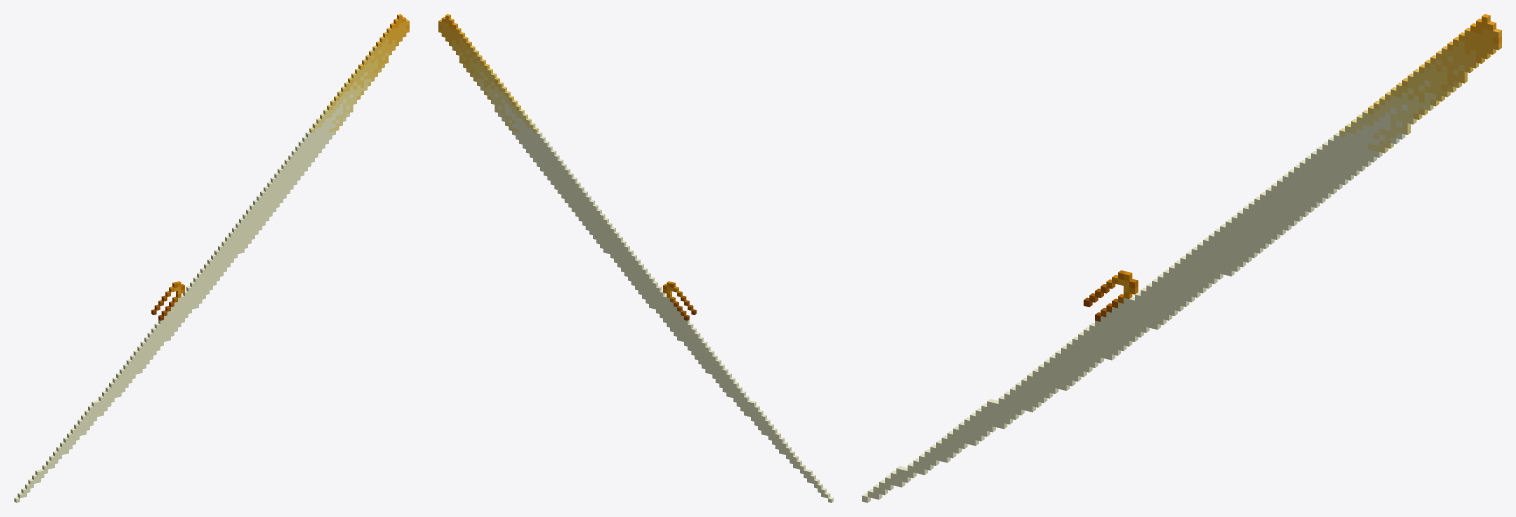
Rendered from Fight_727_2_08_fx.obj.
The picture shows the model from 3 angles, left to right: view 1: azimuth 30°, elevation 25°; view 2: azimuth 150°, elevation 25°; view 3: azimuth 330°, elevation 25°; orthographic projection. The views are drawn at different scales.
Size of the model in its own units: 11.2 by 10.7 by 0.1.
1 material, 1 textured.
